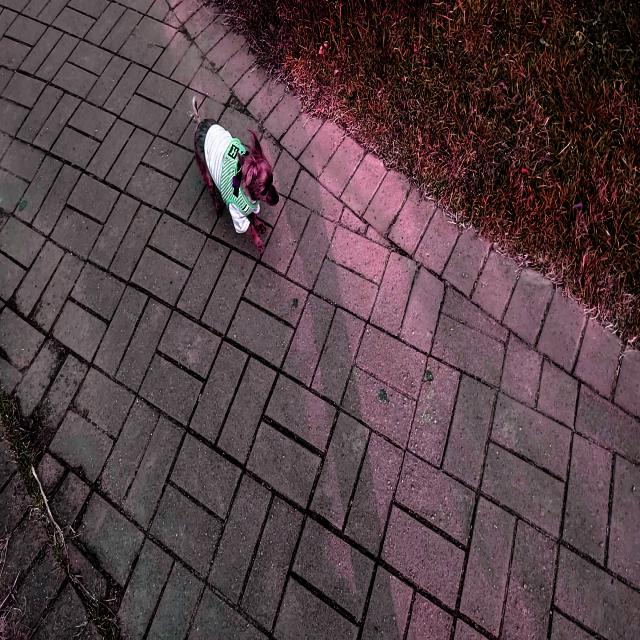Dog: (192, 94, 279, 253)
